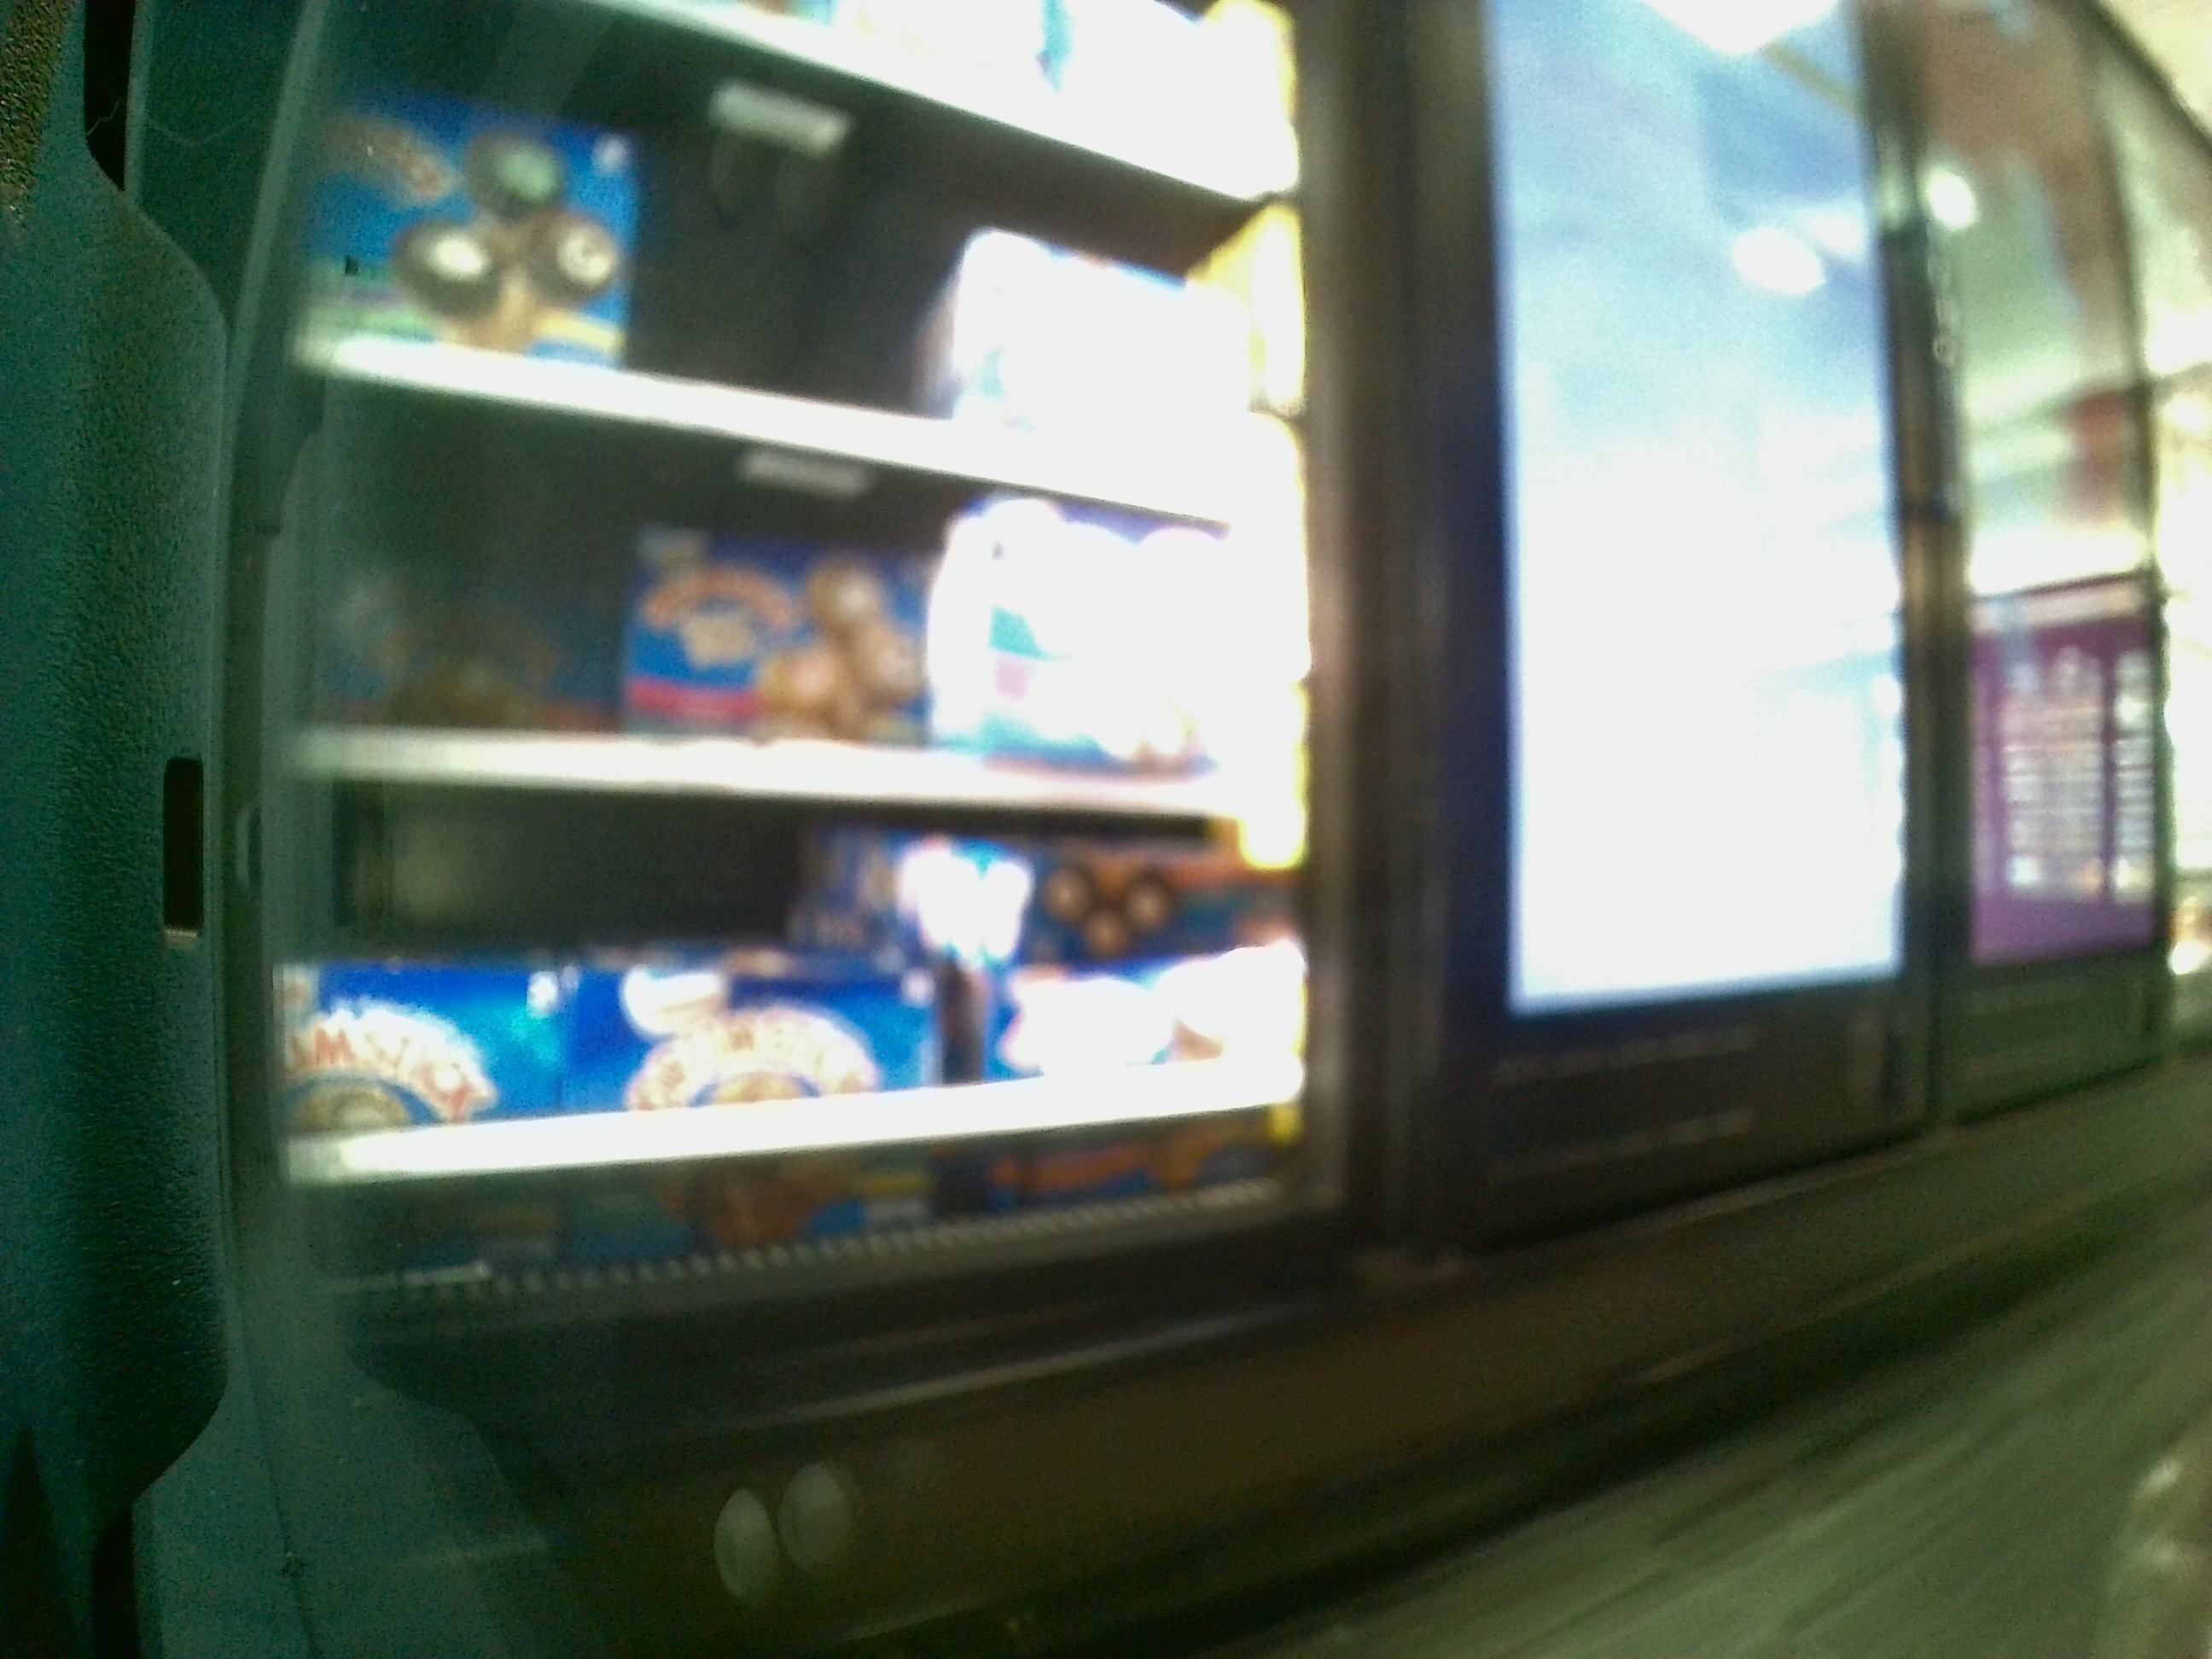shelf: (291, 807, 1303, 1255)
